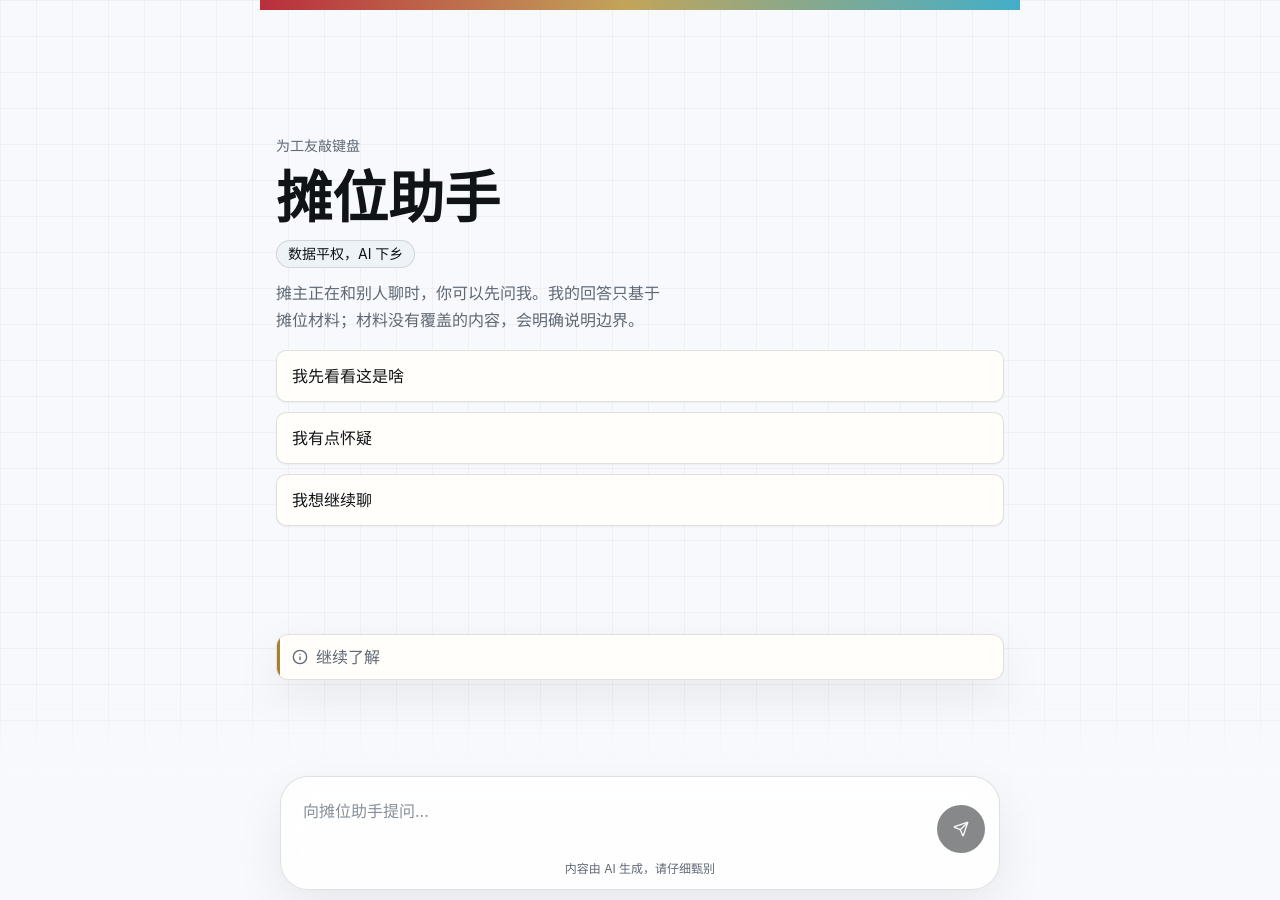
Home › sends a chat message and displays the assistant response
Type "数据平权是什么意思？" into the text box named "输入问题" at (611, 822), box [295,791,927,853]
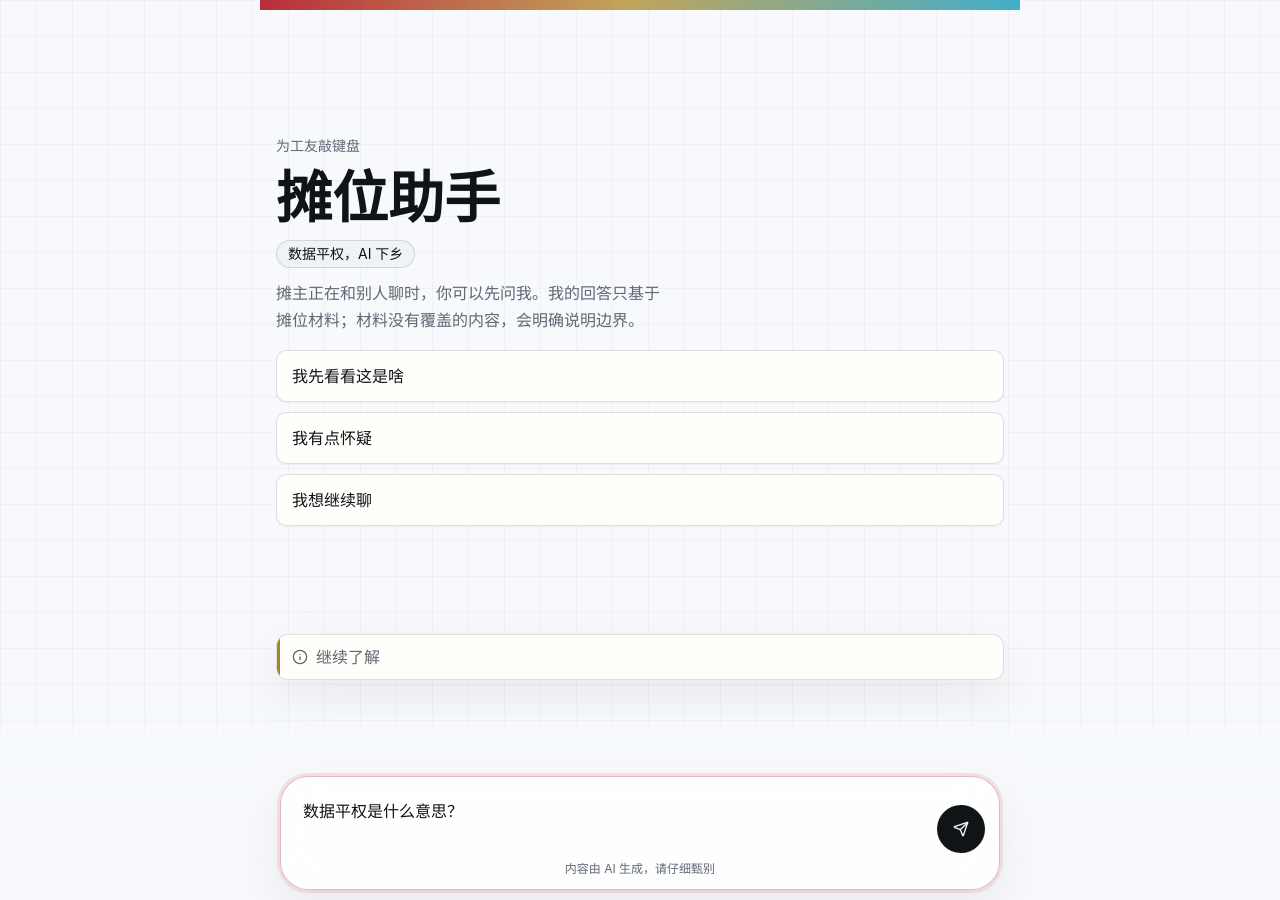
Click the button named "发送" at (961, 829), box [937,805,985,853]
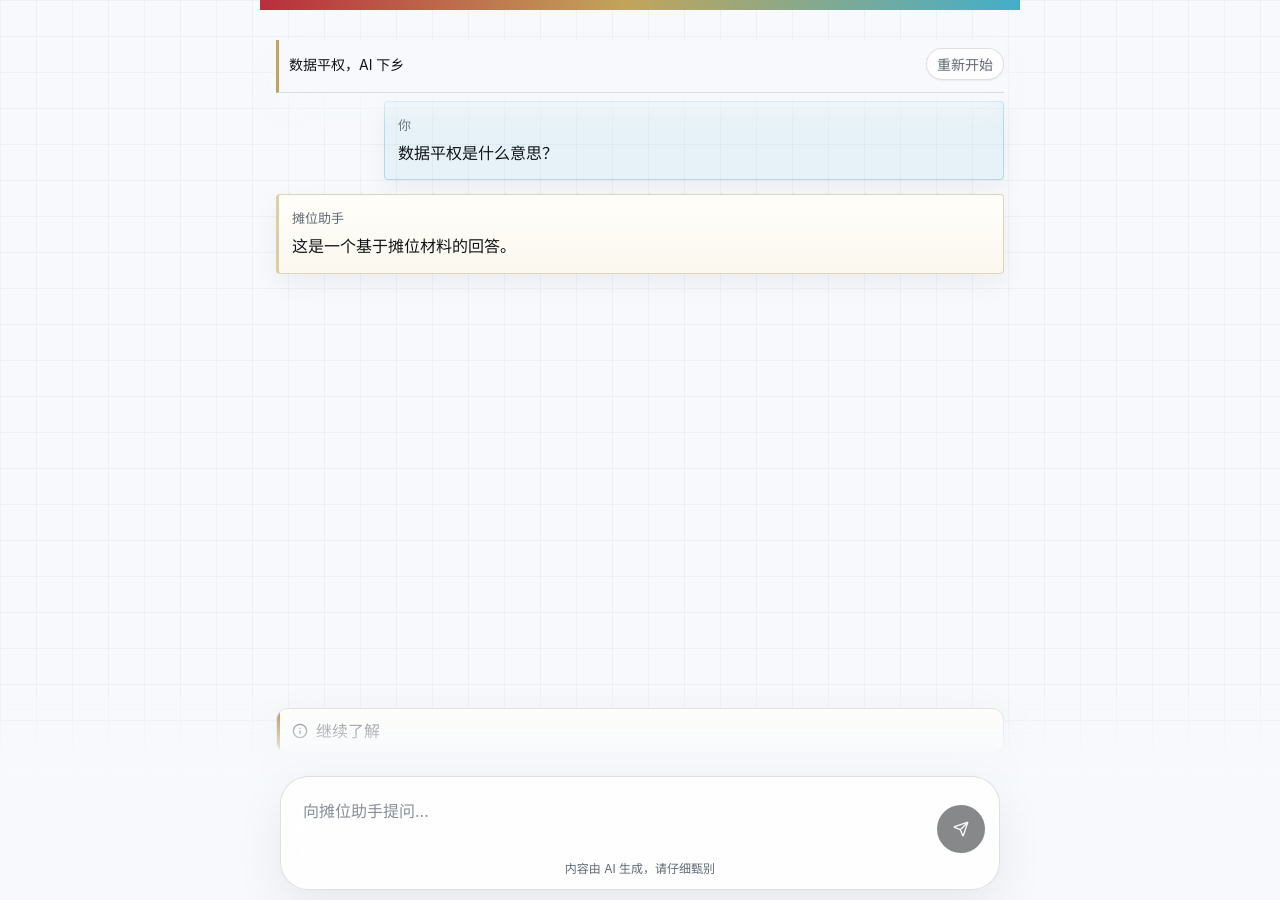
Expected: the text "这是一个基于摊位材料的回答。" is shown, [292,236,516,256]
